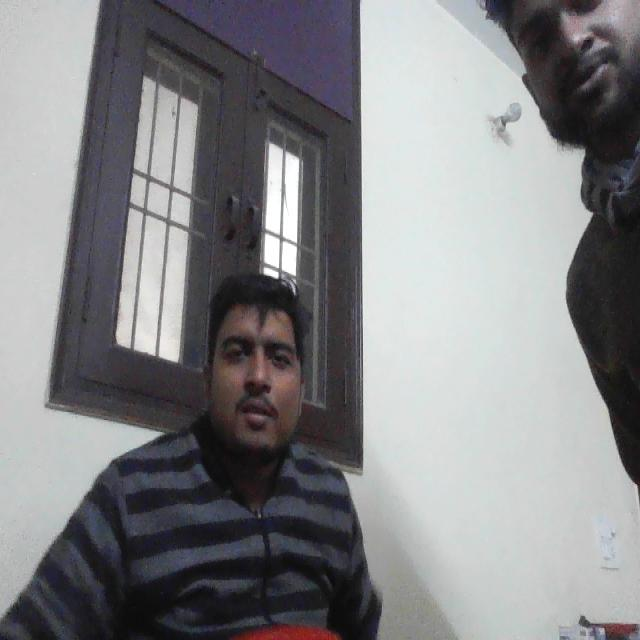real: (200, 250, 312, 462)
